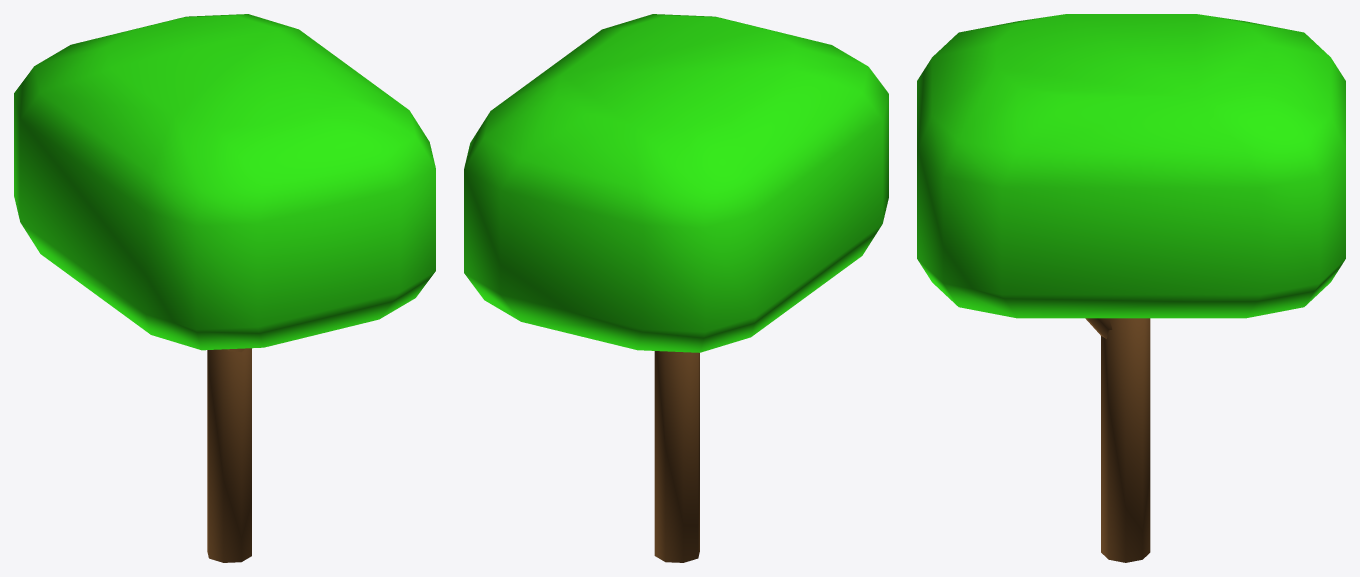
The model's file is TreeNew.fbx.
3 views of the same model, side by side, from view 1: azimuth 30°, elevation 25°; view 2: azimuth 150°, elevation 25°; view 3: azimuth 270°, elevation 25° (orthographic). The views are drawn at different scales.
Visible parts, largest first — view 1: Tree; view 2: Tree; view 3: Tree.
Boxes of the visible parts, x1,y1,x2,y2 form: Tree: (14, 14, 435, 562); Tree: (464, 14, 888, 562); Tree: (917, 14, 1345, 562).
Bounding box in the file's own units: 1373 × 2221 × 1740.
